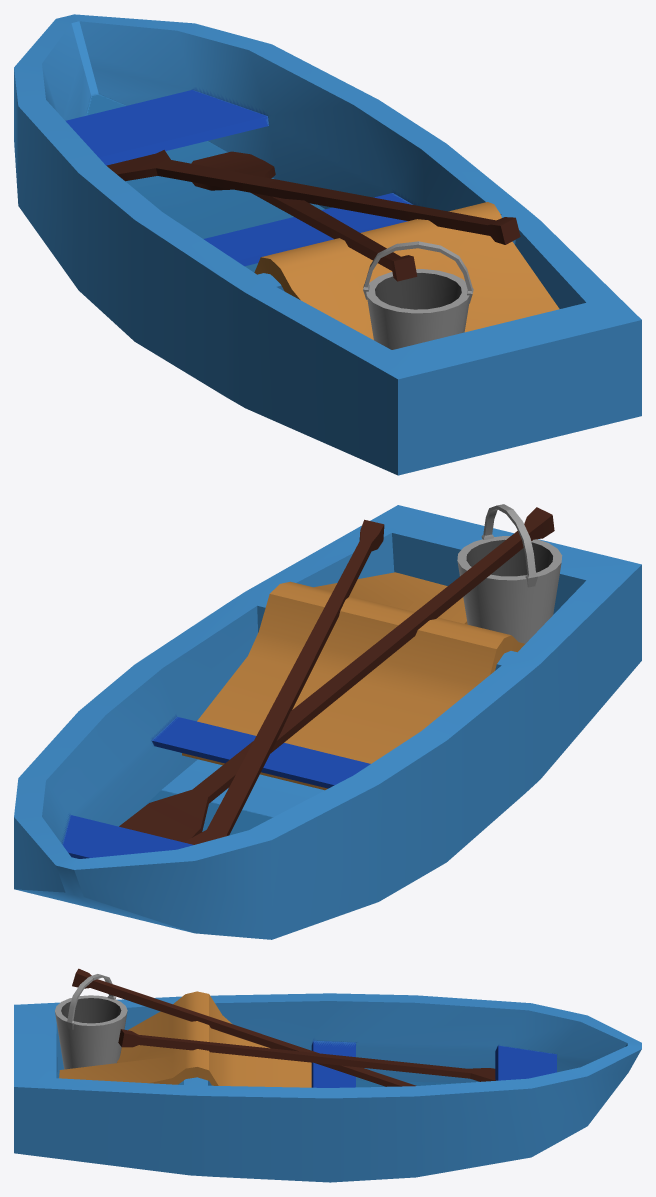
Rendered from boatCrowIsland.fbx.
3 views of the same model, one above another, from view 1: azimuth 30°, elevation 25°; view 2: azimuth 150°, elevation 25°; view 3: azimuth 270°, elevation 25° (orthographic). The views are drawn at different scales.
Parts seen in each view (by area): view 1: islandBoat; view 2: islandBoat; view 3: islandBoat.
Boxes of the visible parts, x1,y1,x2,y2 form: islandBoat: (14,14,641,475); islandBoat: (14,504,641,939); islandBoat: (14,968,641,1182).
Size of the model in its own units: 205 by 125 by 517.
